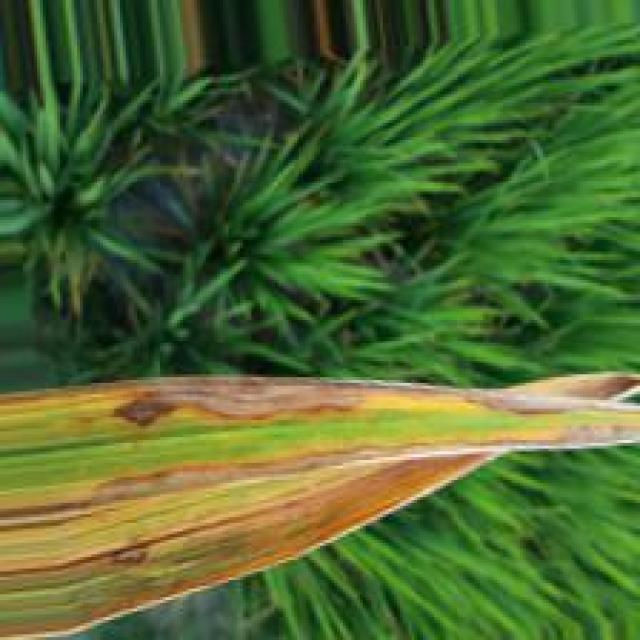Bacterial_Leaf_Blight: (0, 423, 637, 635), (3, 373, 637, 433)
